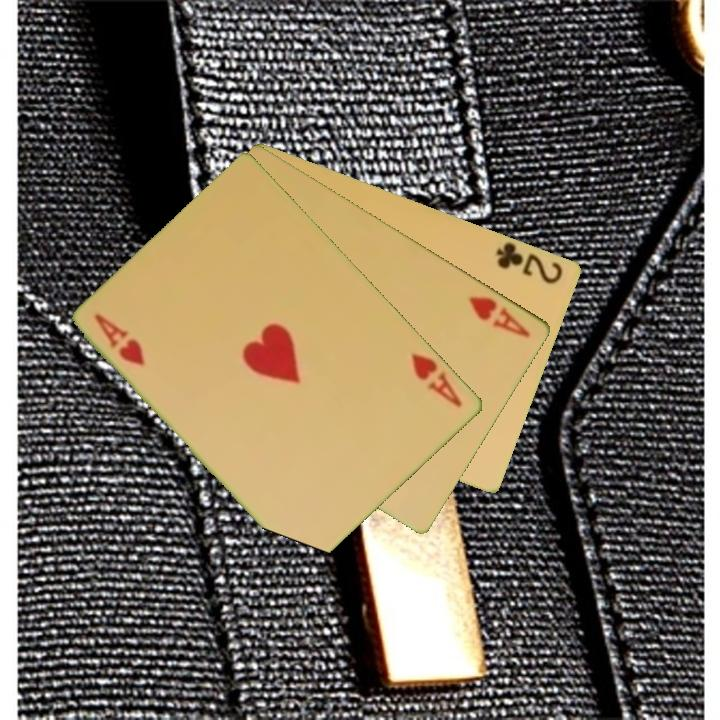2c: (493, 238, 566, 287)
Ah: (408, 350, 466, 410), (465, 292, 534, 341), (92, 309, 148, 369)
